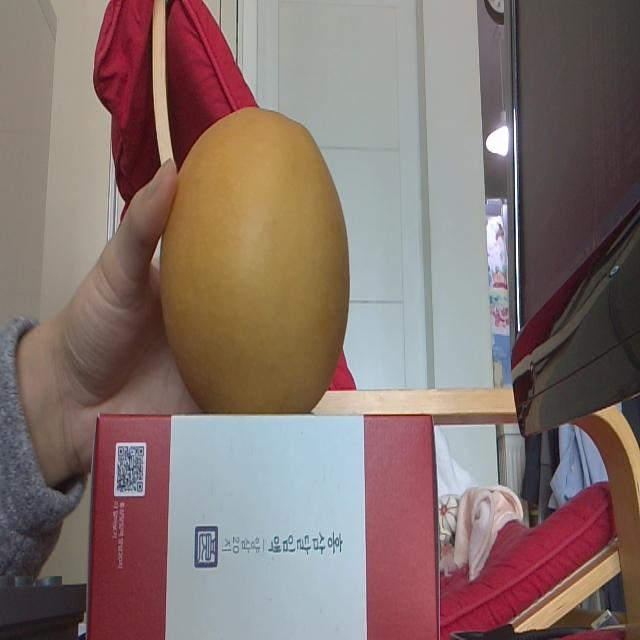pear: (158, 104, 350, 418)
